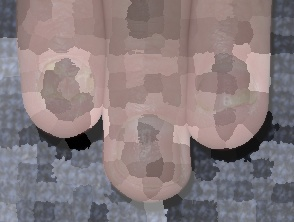Nail_psoriasis: (85, 85, 215, 212), (168, 28, 287, 154), (8, 26, 124, 141)
